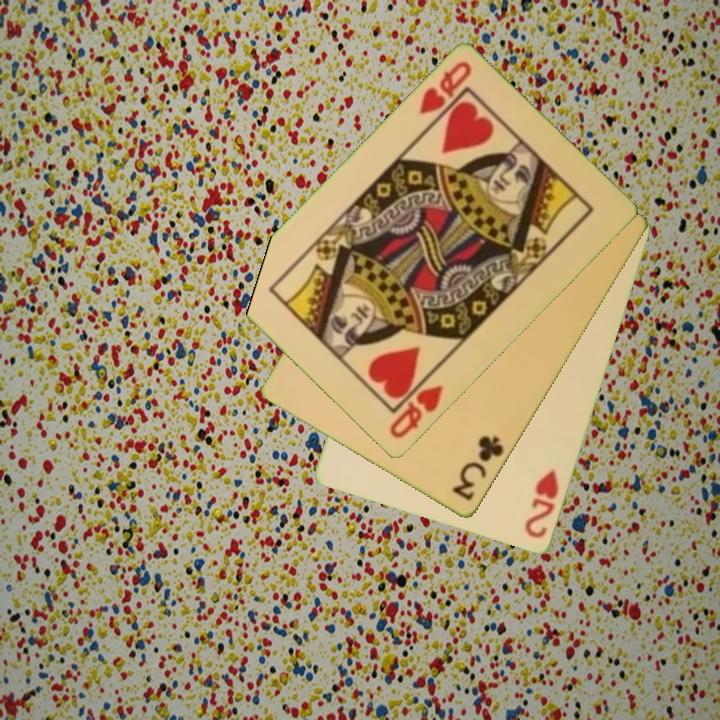2h: (521, 466, 562, 542)
3c: (449, 432, 507, 505)
Qh: (385, 382, 446, 442), (415, 58, 475, 119)
